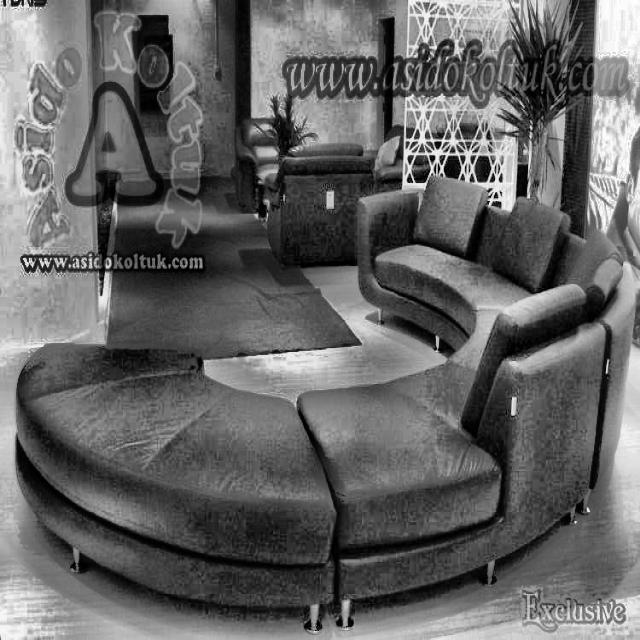sofa: (356, 174, 636, 515), (13, 341, 337, 634)
